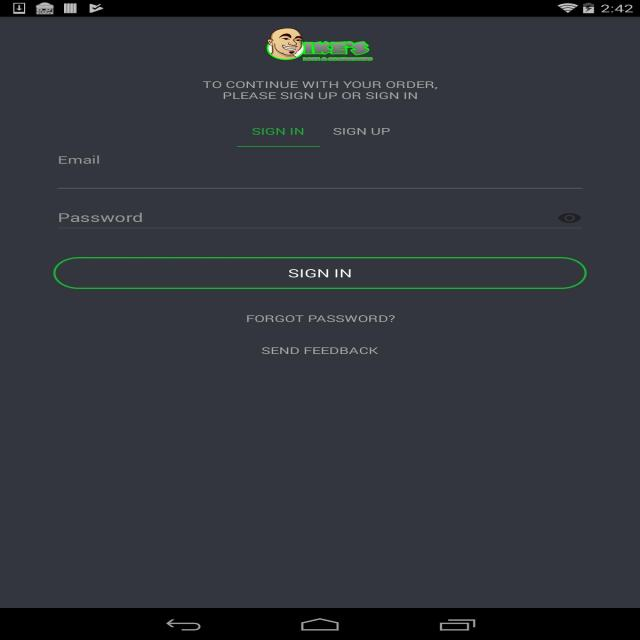button: (51, 256, 590, 290), (326, 121, 410, 148), (232, 122, 320, 147), (556, 209, 582, 227)
field: (58, 154, 579, 189), (57, 198, 584, 228)
image: (262, 26, 374, 66)
label: (58, 210, 146, 226), (59, 155, 104, 167)
link: (245, 313, 398, 325)
text: (203, 80, 442, 102), (260, 346, 382, 358)
